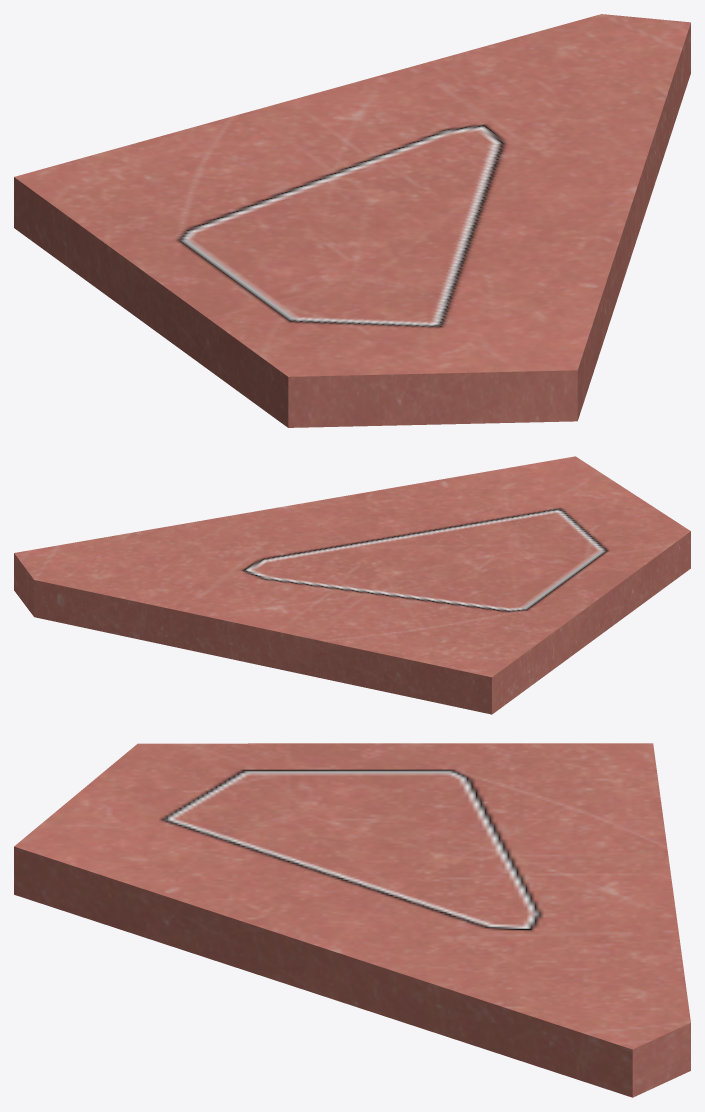
File: SM_SJJ_HG_Wall06L.fbx
3 views of the same model, one above another, from view 1: azimuth 30°, elevation 25°; view 2: azimuth 150°, elevation 25°; view 3: azimuth 270°, elevation 25° (orthographic). The views are drawn at different scales.
Parts seen in each view (by area): view 1: SM_SJJ_HG_Wall06L; view 2: SM_SJJ_HG_Wall06L; view 3: SM_SJJ_HG_Wall06L.
Part boxes in pixels (bbox=[...]): SM_SJJ_HG_Wall06L: bbox=[14, 14, 690, 427]; SM_SJJ_HG_Wall06L: bbox=[14, 456, 690, 714]; SM_SJJ_HG_Wall06L: bbox=[14, 743, 690, 1097].
Bounding box in the file's own units: 136 × 127 × 10.
1 material, 1 textured.
